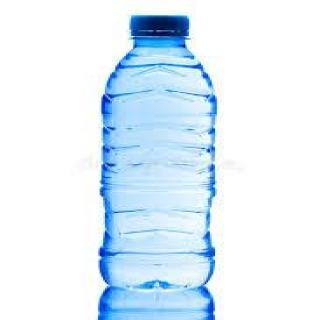Plastic-bottle: (101, 13, 218, 296)
